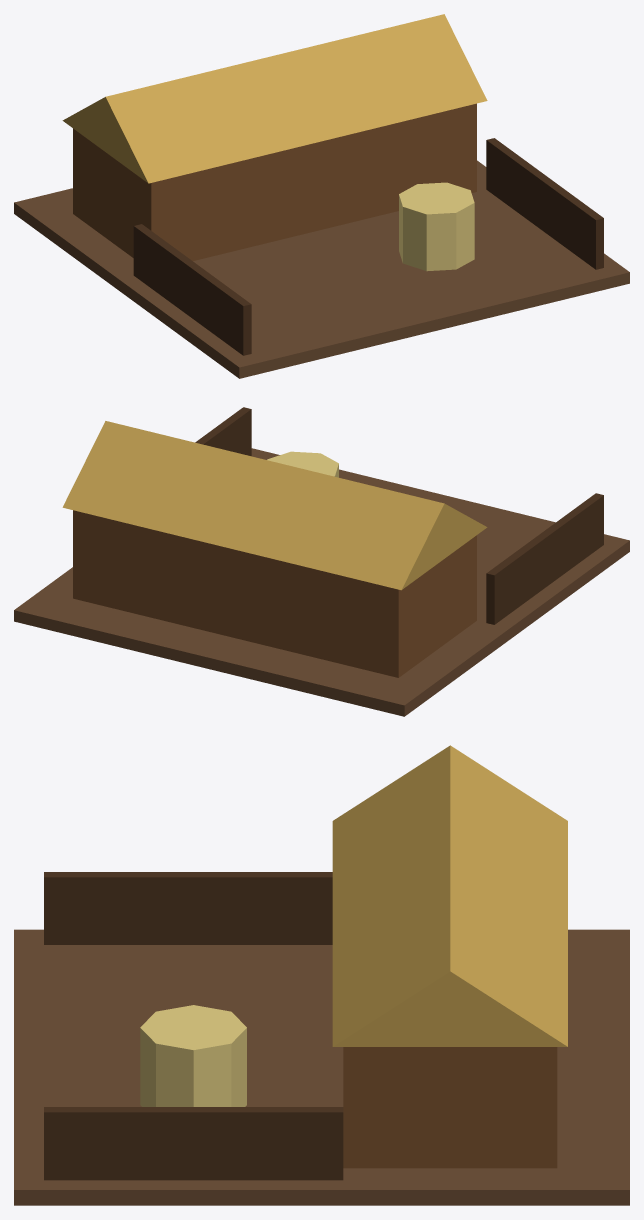
File: stable.glb
3 renders of one model, top to bottom at view 1: azimuth 30°, elevation 25°; view 2: azimuth 150°, elevation 25°; view 3: azimuth 270°, elevation 25°, orthographic. The views are drawn at different scales.
Visible parts, largest first — view 1: stable; view 2: stable; view 3: stable.
Boxes of the visible parts, x1,y1,x2,y2 form: stable: (14,14,629,378); stable: (14,407,629,716); stable: (14,745,629,1205).
Bounding box in the file's own units: 2.88 × 1.12 × 2.88.
